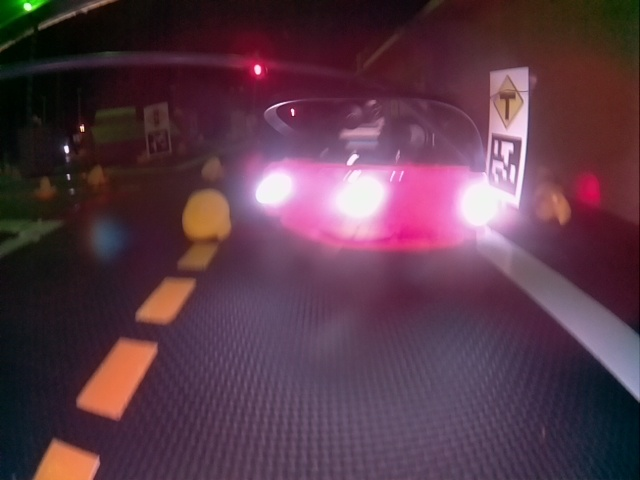Duckie: (184, 191, 229, 241), (87, 165, 106, 187), (36, 177, 56, 197)
Duckiebot: (256, 101, 498, 254)
Intersection sign: (491, 74, 524, 127)
QR code: (486, 131, 525, 197), (147, 128, 169, 156)
Signal sign: (145, 105, 165, 128)
Traffic light: (250, 60, 267, 79)
